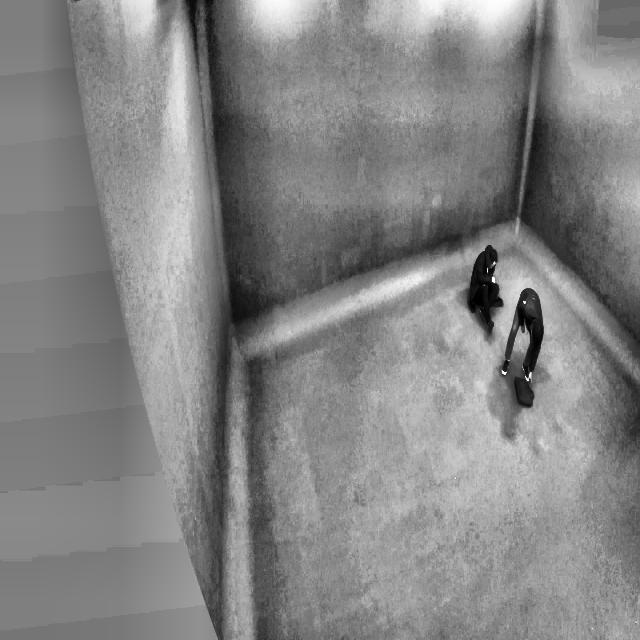assult: (464, 243, 545, 408)
